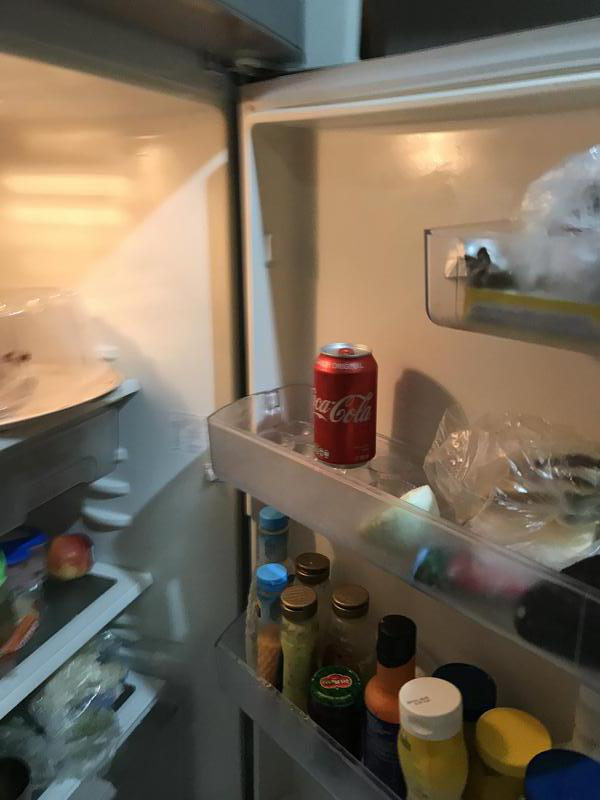coca_cola: (314, 344, 375, 468)
